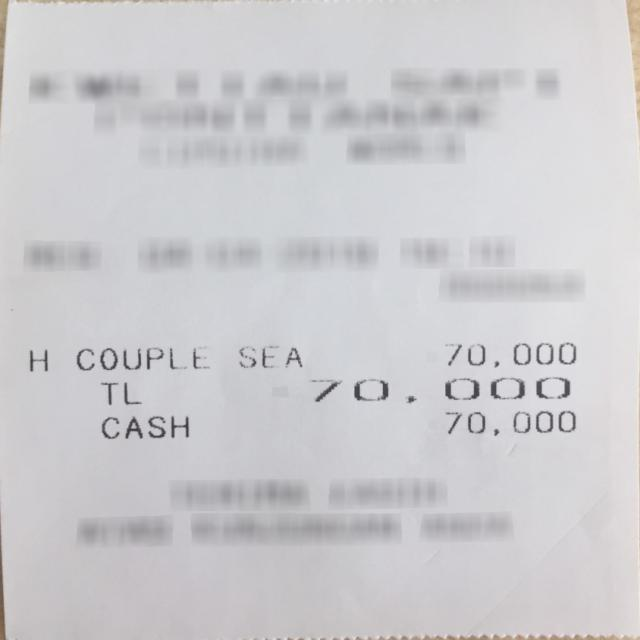text: (311, 376, 574, 406), (445, 340, 575, 367), (76, 346, 211, 371), (444, 410, 574, 434), (100, 415, 187, 439), (239, 345, 301, 367), (100, 381, 140, 403), (29, 349, 45, 369)
